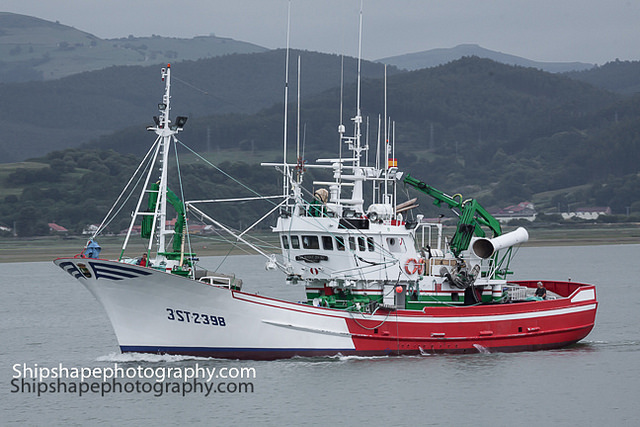fishing_boat: (48, 36, 603, 359)
